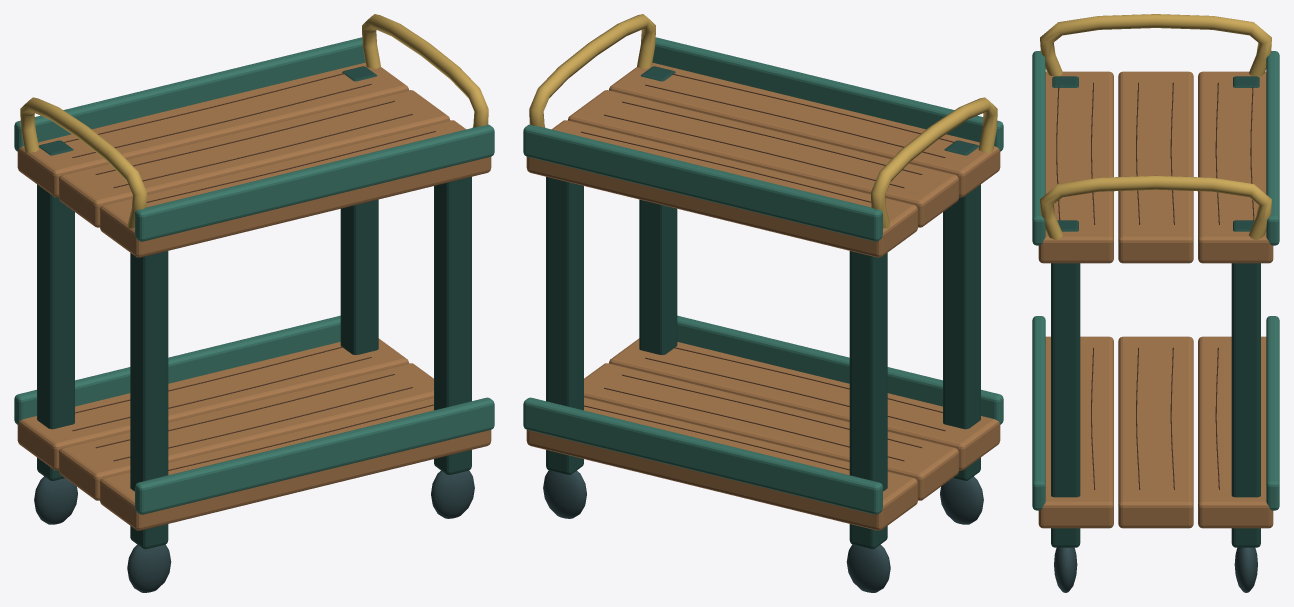
The model's file is service_trolley.glb.
The picture shows the model from 3 angles, left to right: view 1: azimuth 30°, elevation 25°; view 2: azimuth 150°, elevation 25°; view 3: azimuth 270°, elevation 25°; orthographic projection. The views are drawn at different scales.
Visible parts, largest first — view 1: Bevelled_timber.004, Bevelled_timber.001, Bevelled_timber.003, Shelf_lip.001, Shelf_lip.003, Bevelled_timber, Bevelled_timber.005, Bevelled_timber.002, Raised_caster_leg.001, Raised_caster_leg, Raised_caster_leg.003, Shelf_lip.002 (+7 smaller); view 2: Bevelled_timber.004, Bevelled_timber.001, Bevelled_timber.005, Shelf_lip, Shelf_lip.002, Bevelled_timber.002, Bevelled_timber.003, Bevelled_timber, Raised_caster_leg, Raised_caster_leg.001, Raised_caster_leg.002, Shelf_lip.003 (+7 smaller); view 3: Bevelled_timber.001, Bevelled_timber.004, Bevelled_timber.005, Bevelled_timber.003, Bevelled_timber, Bevelled_timber.002, Raised_caster_leg.002, Raised_caster_leg.003, Brass_push_handle.001, Brass_push_handle, Shelf_lip, Shelf_lip.001 (+4 smaller).
Part boxes in pixels (x1,y1,x2,y2): Bevelled_timber.004: [59, 90, 449, 227]; Bevelled_timber.001: [59, 363, 433, 500]; Bevelled_timber.003: [17, 62, 408, 197]; Shelf_lip.001: [135, 397, 494, 514]; Shelf_lip.003: [135, 124, 494, 241]; Bevelled_timber: [17, 338, 408, 470]; Bevelled_timber.005: [100, 120, 491, 257]; Bevelled_timber.002: [100, 397, 491, 530]; Raised_caster_leg.001: [130, 251, 168, 549]; Raised_caster_leg: [37, 140, 74, 480]; Raised_caster_leg.003: [434, 177, 471, 474]; Shelf_lip.002: [14, 37, 365, 151]; Bevelled_timber.004: [568, 90, 958, 227]; Bevelled_timber.001: [584, 363, 958, 500]; Bevelled_timber.005: [609, 62, 1000, 197]; Shelf_lip: [523, 397, 882, 514]; Shelf_lip.002: [523, 124, 882, 241]; Bevelled_timber.002: [609, 338, 1000, 470]; Bevelled_timber.003: [526, 120, 917, 257]; Bevelled_timber: [526, 397, 917, 530]; Raised_caster_leg: [849, 251, 887, 549]; Raised_caster_leg.001: [943, 140, 980, 480]; Raised_caster_leg.002: [546, 177, 583, 474]; Shelf_lip.003: [652, 37, 1003, 151]; Bevelled_timber.001: [1118, 336, 1193, 528]; Bevelled_timber.004: [1118, 71, 1193, 263]; Bevelled_timber.005: [1038, 71, 1113, 263]; Bevelled_timber.003: [1198, 71, 1273, 263]; Bevelled_timber: [1198, 336, 1273, 528]; Bevelled_timber.002: [1038, 336, 1113, 528]; Raised_caster_leg.002: [1231, 220, 1260, 547]; Raised_caster_leg.003: [1051, 220, 1080, 547]; Brass_push_handle.001: [1040, 175, 1271, 240]; Brass_push_handle: [1040, 14, 1271, 76]; Shelf_lip: [1266, 316, 1279, 510]; Shelf_lip.001: [1032, 316, 1045, 510].
Bounding box in the file's own units: 0.75 × 0.8803 × 0.465.
